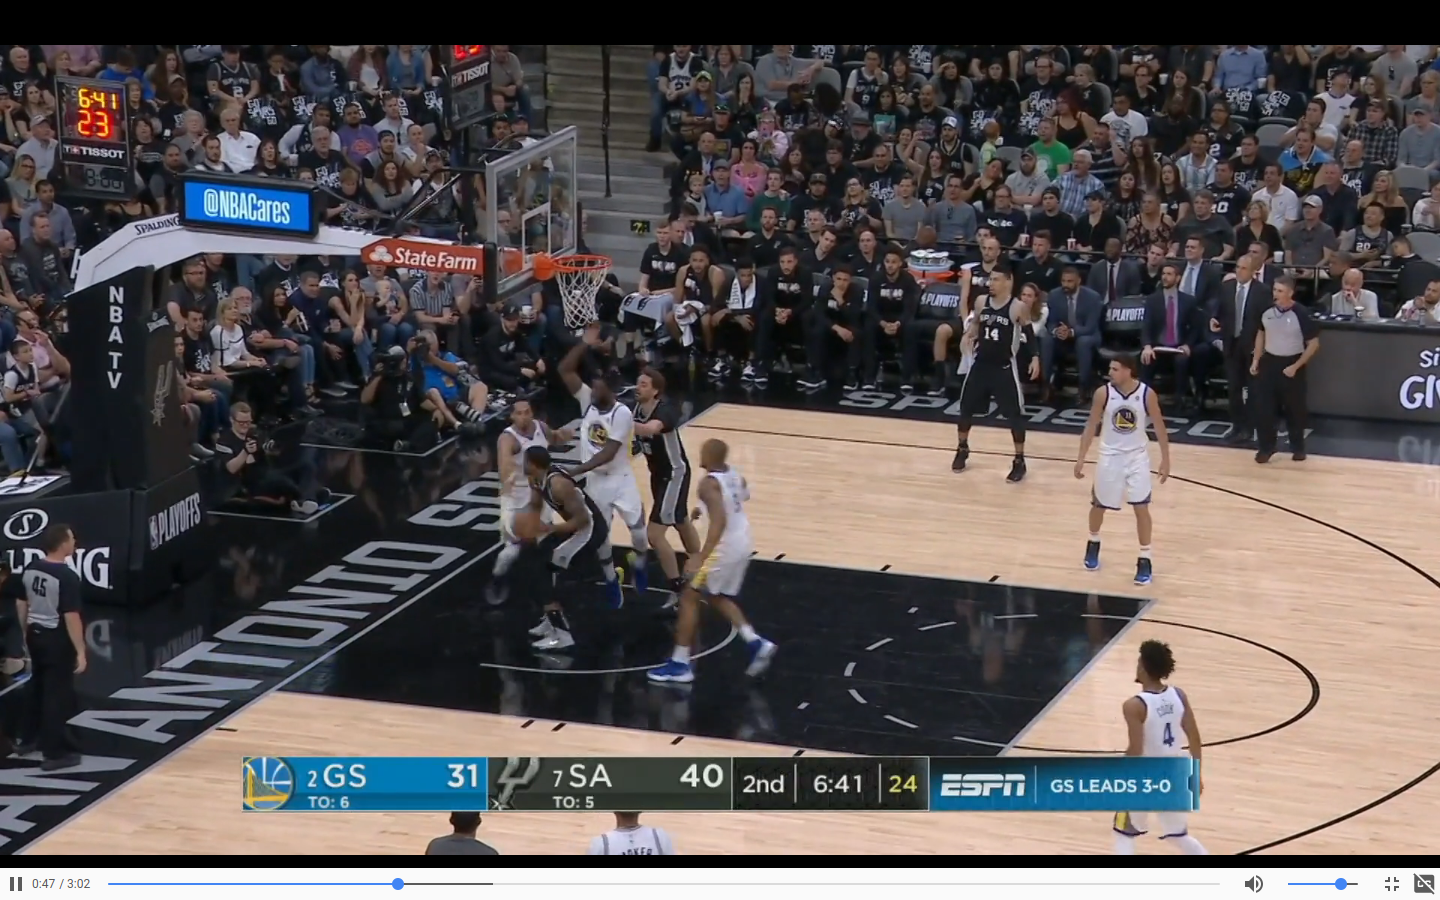basketball: (513, 508, 542, 540)
basketball player: (1065, 356, 1181, 592), (567, 329, 661, 588), (679, 442, 776, 682), (942, 269, 1045, 488), (1113, 637, 1215, 851), (521, 443, 616, 654), (633, 351, 692, 586), (496, 394, 542, 583)
referee: (10, 517, 110, 766), (1242, 272, 1322, 474)
